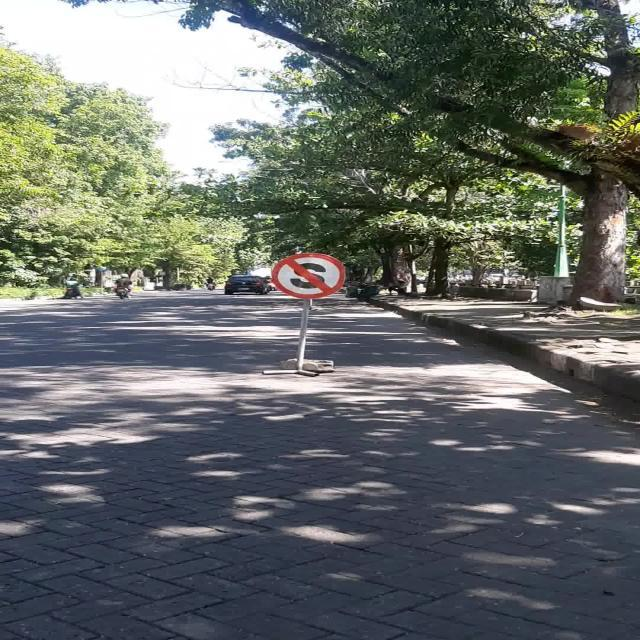Dilarang Berhenti: (270, 252, 346, 298)
